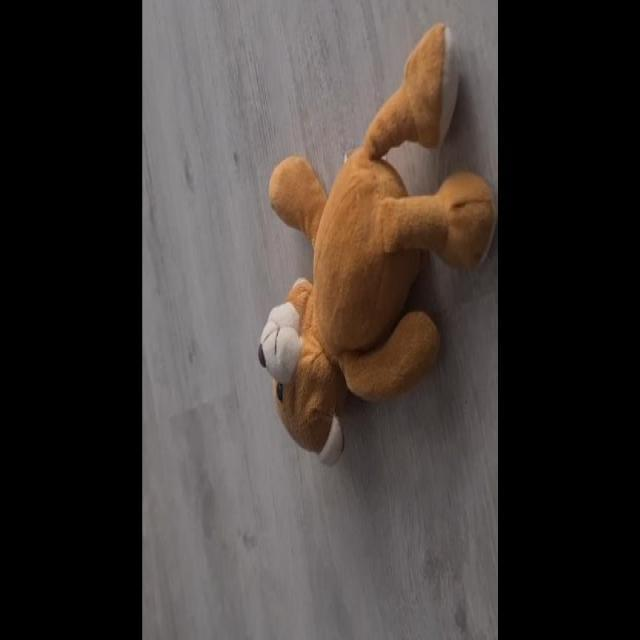soft-toy: (260, 25, 496, 462)
